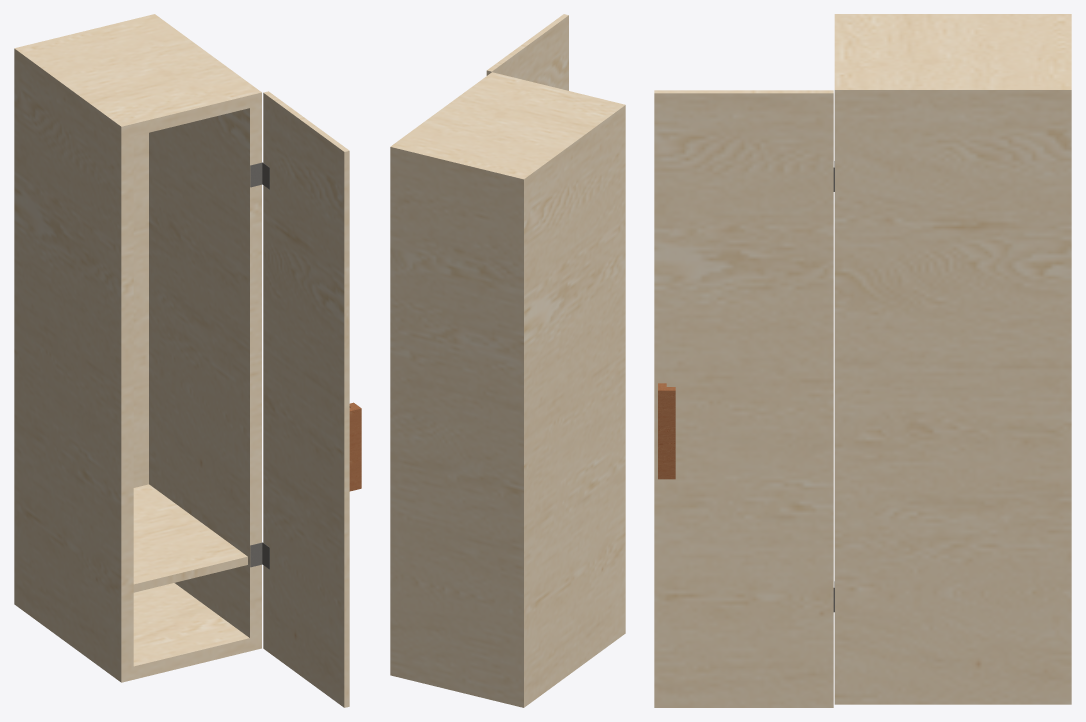
The model's file is Closet26.fbx.
3 views of the same model, side by side, from view 1: azimuth 30°, elevation 25°; view 2: azimuth 150°, elevation 25°; view 3: azimuth 270°, elevation 25° (orthographic). The views are drawn at different scales.
Parts seen in each view (by area): view 1: Closet26, Closet26Door; view 2: Closet26, Closet26Door; view 3: Closet26, Closet26Door.
Boxes of the visible parts, box(x1,y1,x2,y2) form: Closet26: box(14, 14, 262, 682); Closet26Door: box(262, 91, 361, 707); Closet26: box(390, 72, 625, 707); Closet26Door: box(486, 14, 568, 90); Closet26: box(833, 14, 1071, 704); Closet26Door: box(654, 90, 834, 707).
Size of the model in its own units: 76.86 by 254 by 157.
